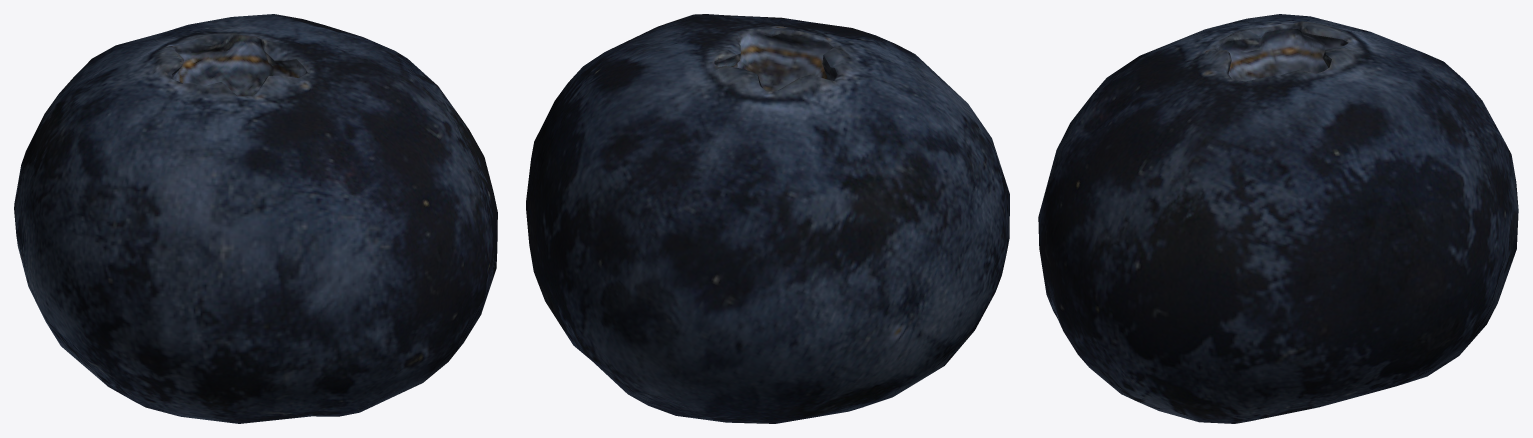
Rendered from gourmet_blueberry.glb.
3 views of the same model, side by side, from view 1: azimuth 30°, elevation 25°; view 2: azimuth 150°, elevation 25°; view 3: azimuth 270°, elevation 25° (orthographic). The views are drawn at different scales.
Parts seen in each view (by area): view 1: Object_2; view 2: Object_2; view 3: Object_2.
Part boxes in pixels (bbox=[...]): Object_2: bbox=[14, 14, 497, 423]; Object_2: bbox=[526, 14, 1009, 423]; Object_2: bbox=[1038, 14, 1518, 423].
Size of the model in its own units: 0.0215 by 0.0162 by 0.0216.
1 material, 1 textured.
